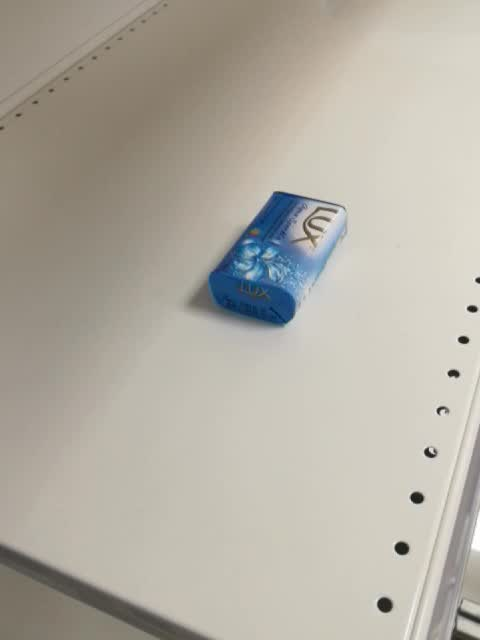soap: (208, 189, 348, 326)
